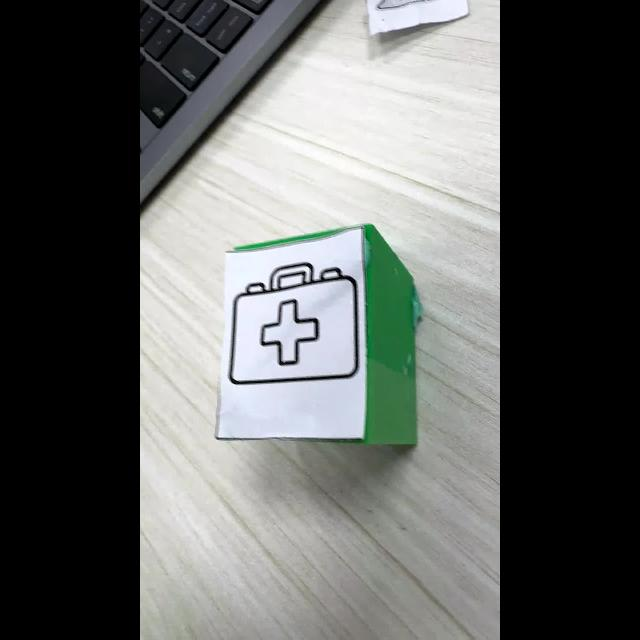Medkit: (227, 263, 358, 385), (259, 296, 320, 372)
